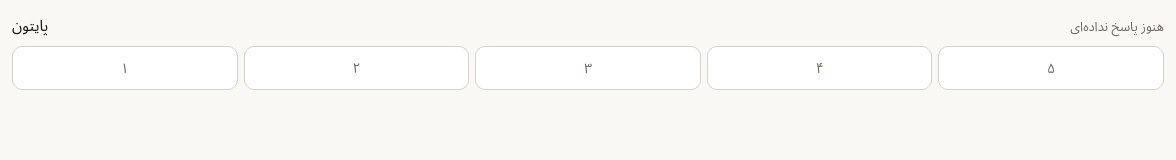
Scenario: SkillSlider — FR-PROF-01 › پس از انتخاب، متن توصیفی همان سطح را نشان می‌دهد
Click the radio button named "4" at (820, 68), box [707, 46, 932, 90]
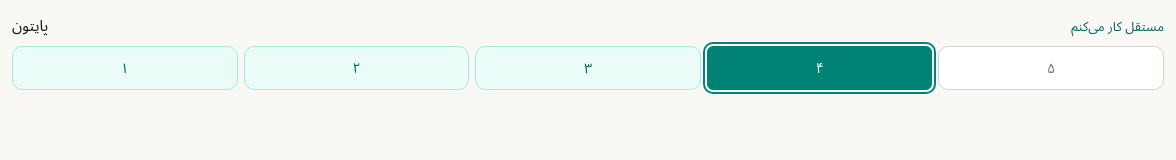
Check: the text "مستقل کار می‌کنم" is shown, box [1071, 15, 1164, 38]
